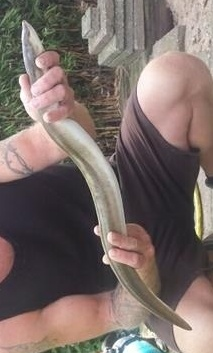Anguilla anguilla: (20, 20, 193, 333)
